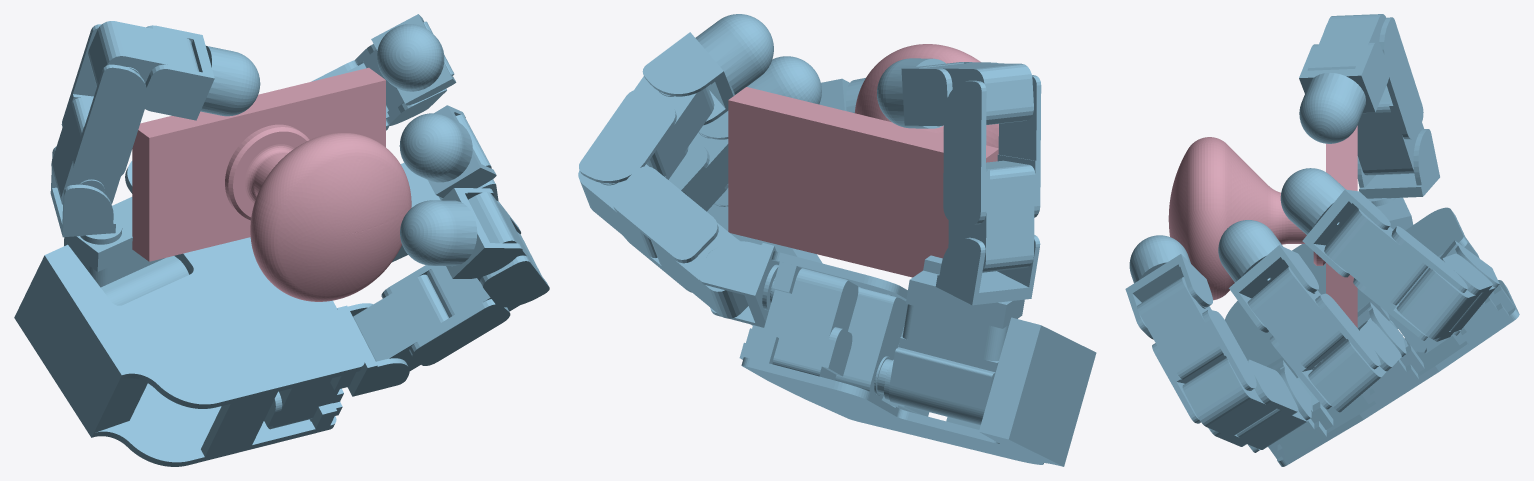
3 views of the same model, side by side, from view 1: azimuth 30°, elevation 25°; view 2: azimuth 150°, elevation 25°; view 3: azimuth 270°, elevation 25° (orthographic). The views are drawn at different scales.
Parts seen in each view (by area): view 1: world; view 2: world; view 3: world.
Part boxes in pixels (bbox=[...]): world: bbox=[14, 14, 549, 466]; world: bbox=[578, 14, 1096, 466]; world: bbox=[1125, 14, 1519, 466].
Bounding box in the file's own units: 0.1773 × 0.1654 × 0.1566.
